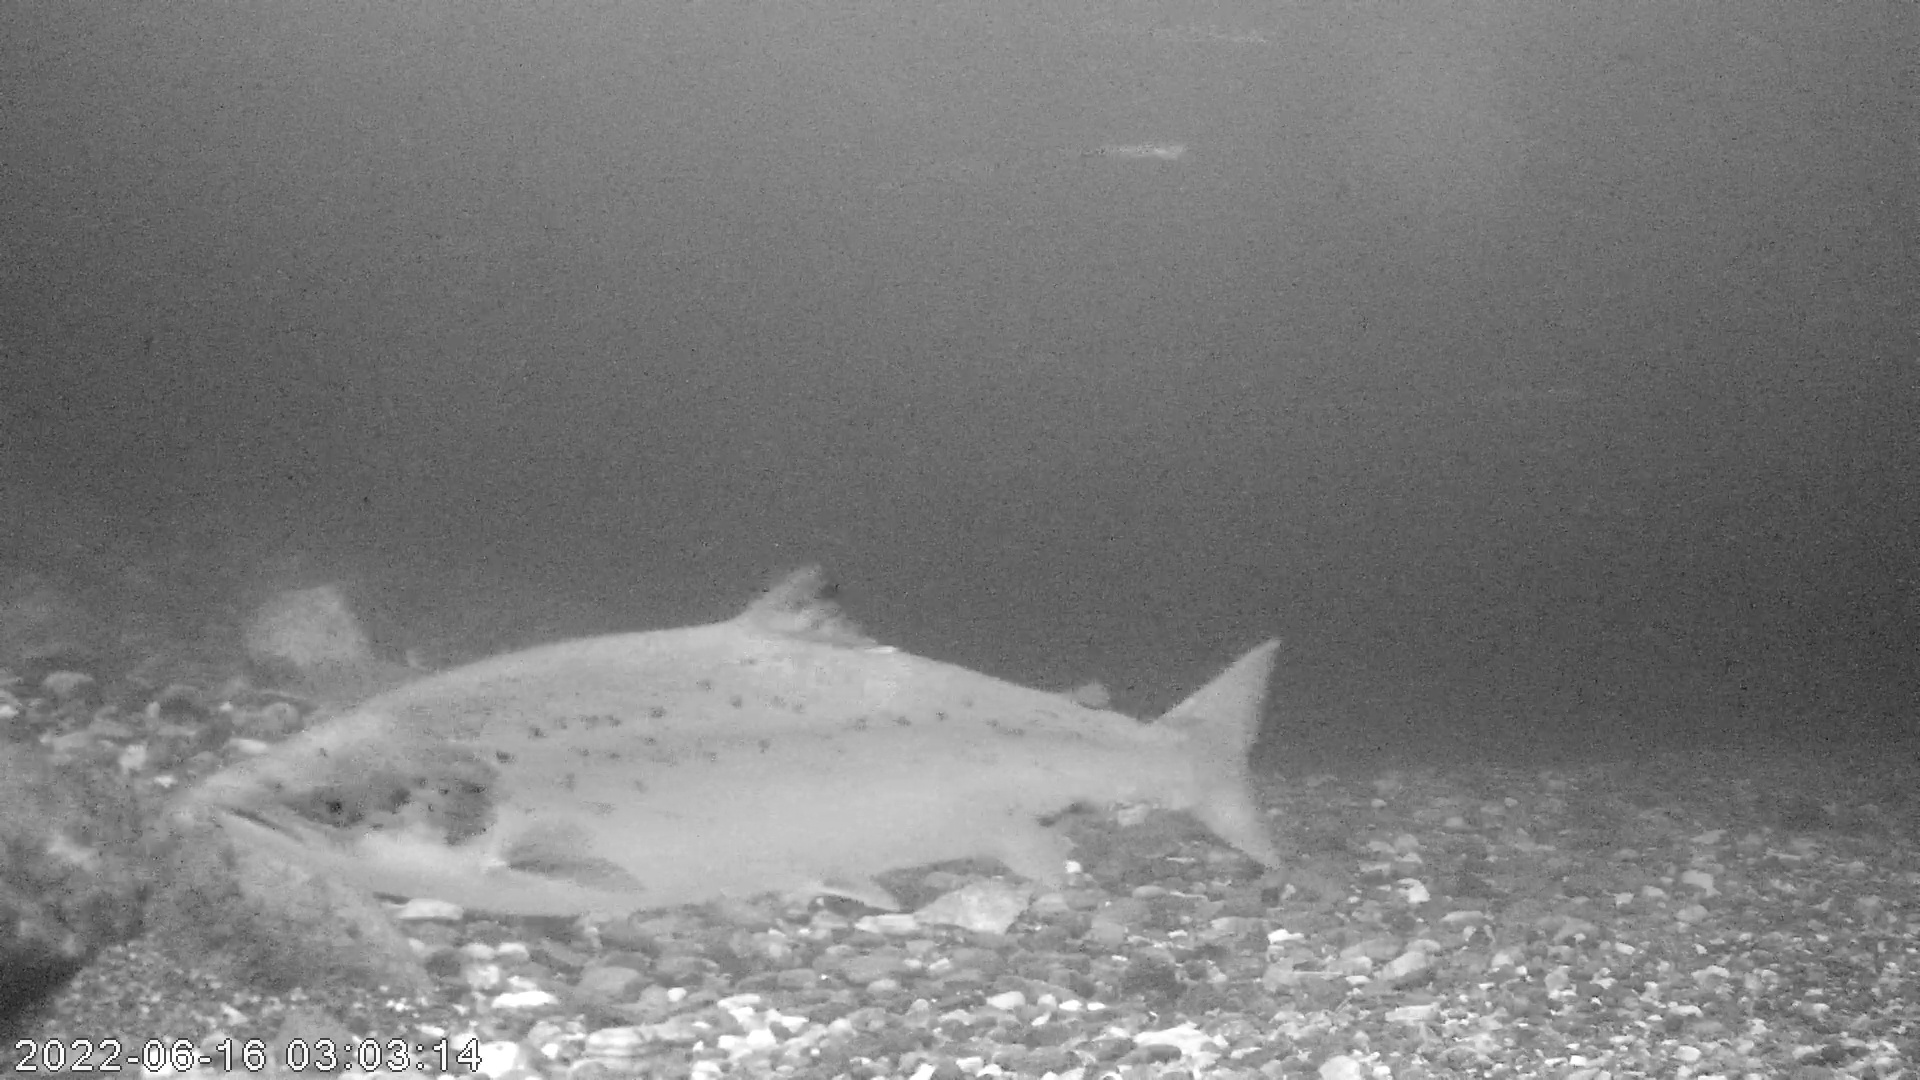salmon: (208, 560, 1284, 919)
